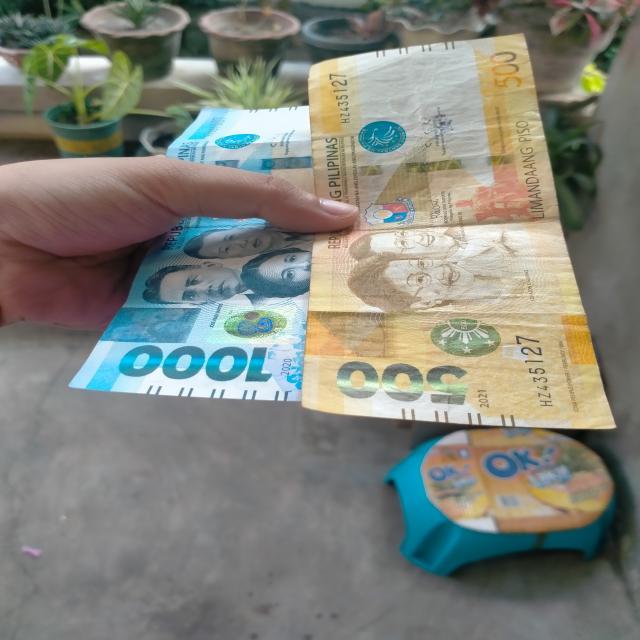concealed_value: (299, 309, 396, 355), (95, 305, 200, 345)
optically_variable_device: (206, 302, 295, 348), (428, 313, 509, 363)
security_thread: (322, 153, 552, 176), (157, 154, 317, 168)
value: (113, 337, 273, 389), (328, 354, 468, 404)
